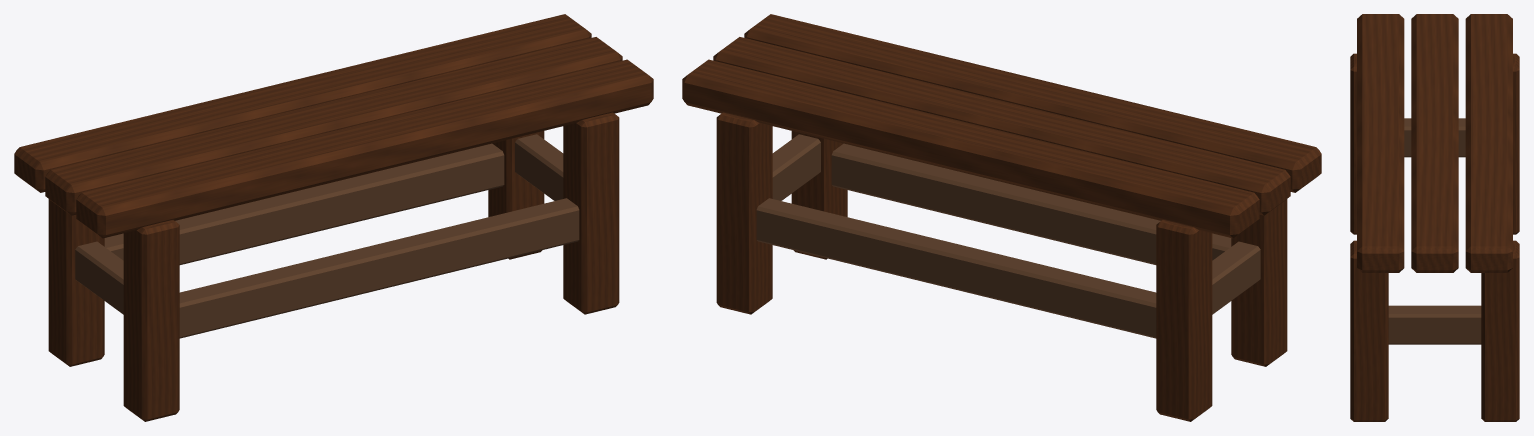
The model's file is bench_rustic.fbx.
The picture shows the model from 3 angles, left to right: view 1: azimuth 30°, elevation 25°; view 2: azimuth 150°, elevation 25°; view 3: azimuth 270°, elevation 25°; orthographic projection. The views are drawn at different scales.
Parts seen in each view (by area): view 1: Bench • seat plank 00, Bench • front stretcher, Bench • seat plank 02, Bench • seat plank 01, Bench • rear stretcher, Bench • leg, Bench • leg.002, Bench • leg.001, Bench • left end brace, Bench • right end brace, Bench • leg.003; view 2: Bench • seat plank 02, Bench • rear stretcher, Bench • seat plank 00, Bench • seat plank 01, Bench • front stretcher, Bench • leg.001, Bench • leg.003, Bench • leg, Bench • left end brace, Bench • right end brace, Bench • leg.002; view 3: Bench • seat plank 00, Bench • seat plank 02, Bench • seat plank 01, Bench • leg.002, Bench • leg.003, Bench • right end brace, Bench • leg, Bench • leg.001, Bench • left end brace.
Boxes of the visible parts, bbox=[...] form: Bench • seat plank 00: bbox=[76, 59, 653, 238]; Bench • front stretcher: bbox=[179, 198, 579, 338]; Bench • seat plank 02: bbox=[14, 14, 591, 192]; Bench • seat plank 01: bbox=[45, 37, 622, 215]; Bench • rear stretcher: bbox=[104, 143, 504, 264]; Bench • leg: bbox=[123, 220, 179, 421]; Bench • leg.002: bbox=[563, 112, 619, 314]; Bench • leg.001: bbox=[48, 199, 104, 366]; Bench • left end brace: bbox=[75, 241, 123, 314]; Bench • right end brace: bbox=[515, 134, 563, 200]; Bench • leg.003: bbox=[488, 131, 544, 259]; Bench • seat plank 02: bbox=[682, 59, 1259, 238]; Bench • rear stretcher: bbox=[756, 198, 1156, 338]; Bench • seat plank 00: bbox=[744, 14, 1321, 192]; Bench • seat plank 01: bbox=[713, 37, 1290, 215]; Bench • front stretcher: bbox=[831, 143, 1231, 264]; Bench • leg.001: bbox=[1156, 220, 1212, 421]; Bench • leg.003: bbox=[716, 112, 772, 314]; Bench • leg: bbox=[1231, 199, 1287, 366]; Bench • left end brace: bbox=[1212, 241, 1260, 314]; Bench • right end brace: bbox=[772, 134, 820, 200]; Bench • leg.002: bbox=[791, 131, 847, 259]; Bench • seat plank 00: bbox=[1357, 14, 1404, 272]; Bench • seat plank 02: bbox=[1465, 14, 1512, 272]; Bench • seat plank 01: bbox=[1411, 14, 1458, 272]; Bench • leg.002: bbox=[1350, 240, 1388, 421]; Bench • leg.003: bbox=[1481, 240, 1519, 421]; Bench • right end brace: bbox=[1388, 305, 1481, 344]; Bench • leg: bbox=[1350, 53, 1356, 234]; Bench • leg.001: bbox=[1513, 53, 1519, 234]; Bench • left end brace: bbox=[1404, 118, 1465, 157].
Size of the model in its own units: 1.24 by 0.4675 by 0.375.
2 materials, 1 textured.
